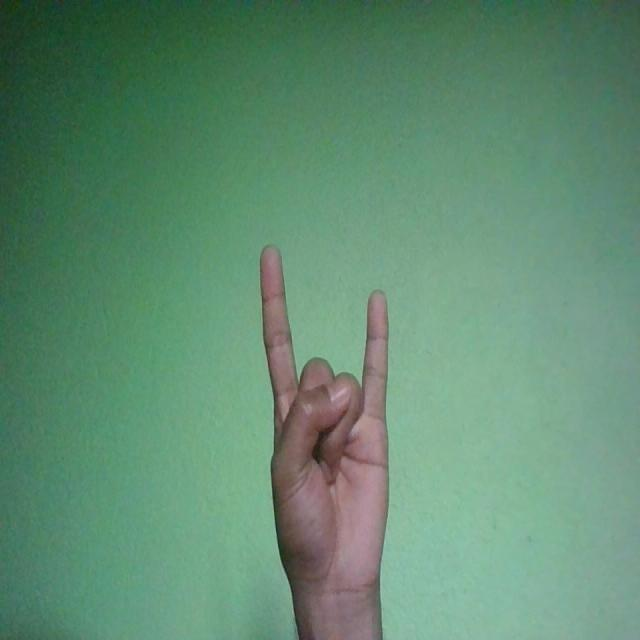open Plam: (259, 244, 389, 606)
